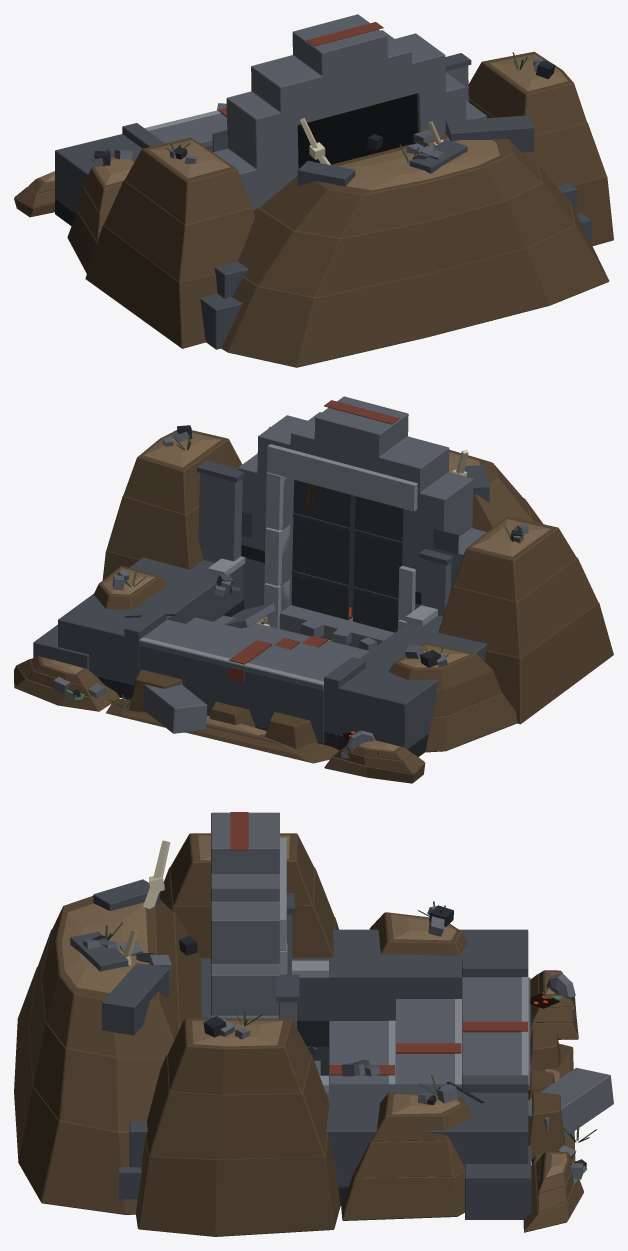
3 renders of one model, top to bottom at view 1: azimuth 30°, elevation 25°; view 2: azimuth 150°, elevation 25°; view 3: azimuth 270°, elevation 25°, orthographic. The views are drawn at different scales.
Parts seen in each view (by area): view 1: DG-主体, DG-team; view 2: DG-主体, DG-team; view 3: DG-主体, DG-team.
Part boxes in pixels (x1,y1,x2,y2): DG-主体: (14,14,613,367); DG-team: (218,22,383,117); DG-主体: (14,396,613,783); DG-team: (228,400,399,682); DG-主体: (14,812,613,1236); DG-team: (230,812,527,1075).
Size of the model in its own units: 10.08 by 4.94 by 9.93.
Materials: 4 (2 with a texture image).
